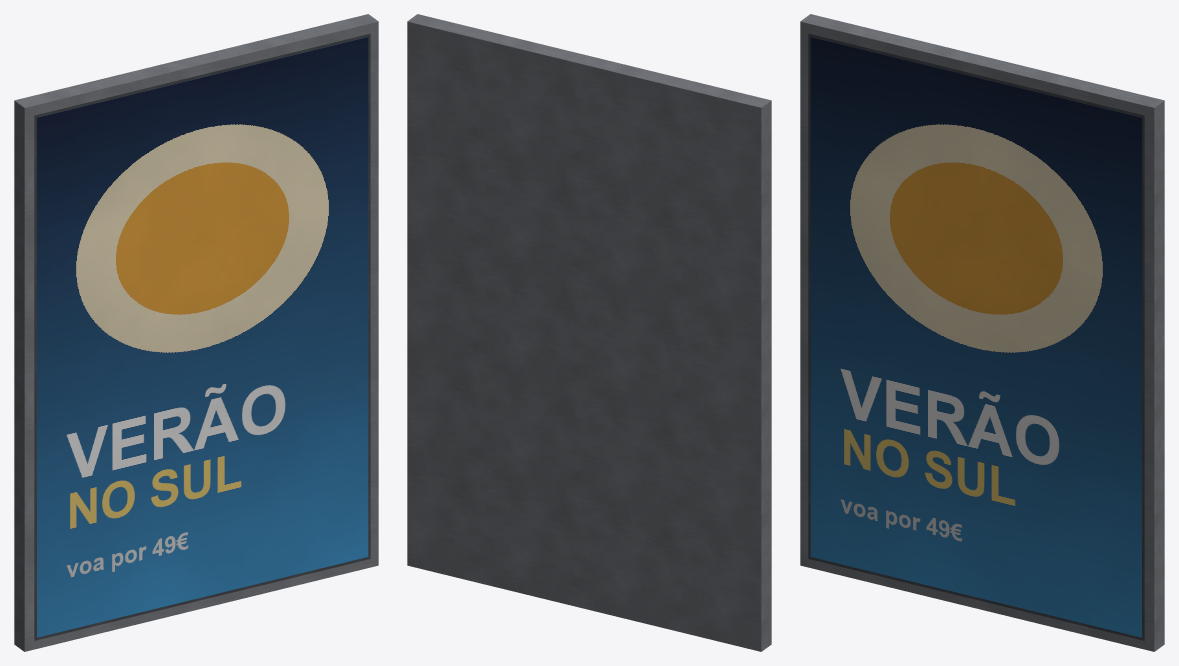
The model's file is poster_a.obj.
3 renders of one model, left to right at view 1: azimuth 30°, elevation 25°; view 2: azimuth 150°, elevation 25°; view 3: azimuth 330°, elevation 25°, orthographic.
Visible parts, largest first — view 1: poster_a; view 2: poster_a; view 3: poster_a.
Boxes of the visible parts, box(x1,y1,x2,y2) form: poster_a: box(14, 14, 378, 651); poster_a: box(407, 14, 771, 651); poster_a: box(800, 14, 1164, 651).
Size of the model in its own units: 1.39 by 2.04 by 0.076.
